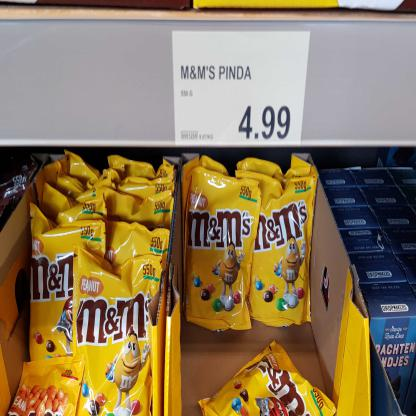prtg: (173, 32, 312, 147)
